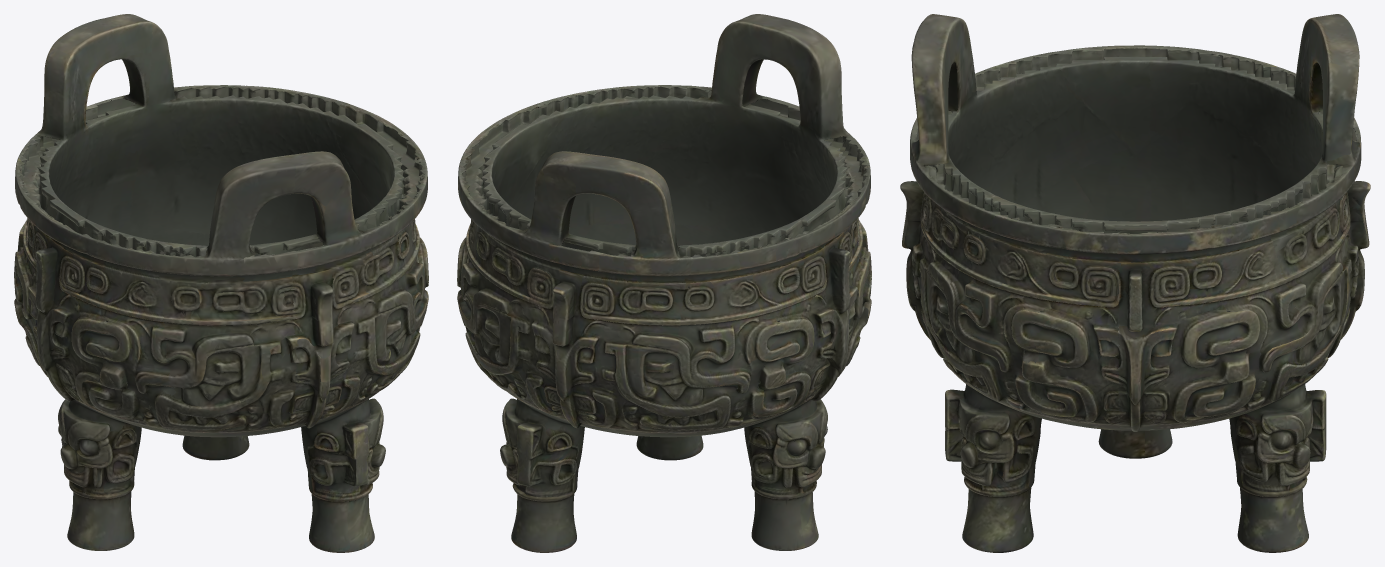
3 views of the same model, side by side, from view 1: azimuth 30°, elevation 25°; view 2: azimuth 150°, elevation 25°; view 3: azimuth 270°, elevation 25° (orthographic). The views are drawn at different scales.
Parts seen in each view (by area): view 1: tripo_node_d2d0a491-07c7-434a-9ac4-8f824484a380; view 2: tripo_node_d2d0a491-07c7-434a-9ac4-8f824484a380; view 3: tripo_node_d2d0a491-07c7-434a-9ac4-8f824484a380.
Boxes of the visible parts, x1,y1,x2,y2 form: tripo_node_d2d0a491-07c7-434a-9ac4-8f824484a380: [14, 14, 428, 552]; tripo_node_d2d0a491-07c7-434a-9ac4-8f824484a380: [457, 14, 871, 552]; tripo_node_d2d0a491-07c7-434a-9ac4-8f824484a380: [900, 14, 1370, 552].
Bounding box in the file's own units: 0.9117 × 1 × 0.9228.
Materials: 1 (1 with a texture image).
